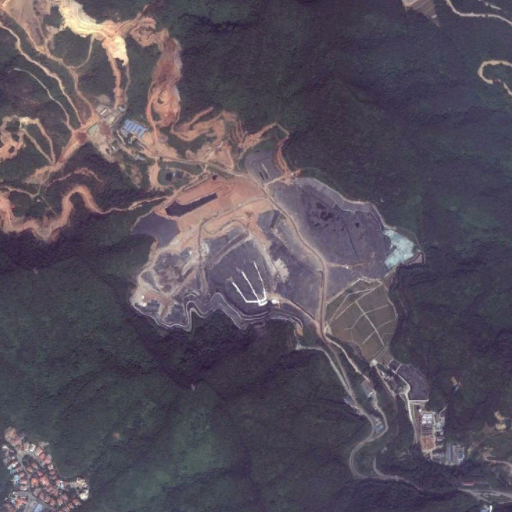lf: (127, 151, 434, 398)
